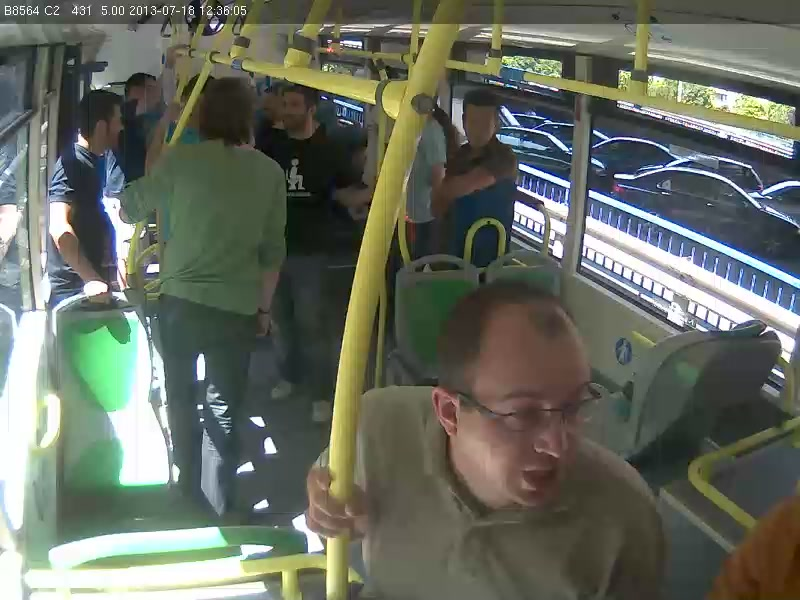Head: (429, 282, 600, 515), (194, 72, 266, 156), (72, 86, 125, 160), (458, 81, 508, 153), (273, 77, 328, 137), (120, 70, 159, 118)
